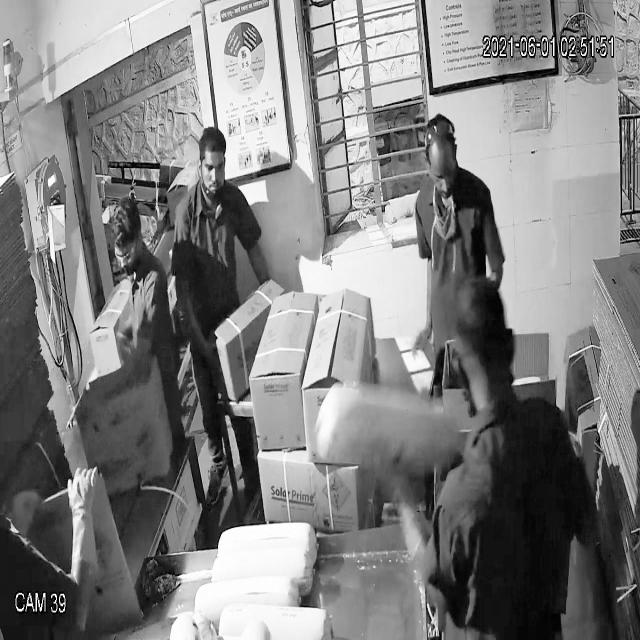glasses: (108, 237, 146, 271)
no-glass: (194, 151, 230, 187)
